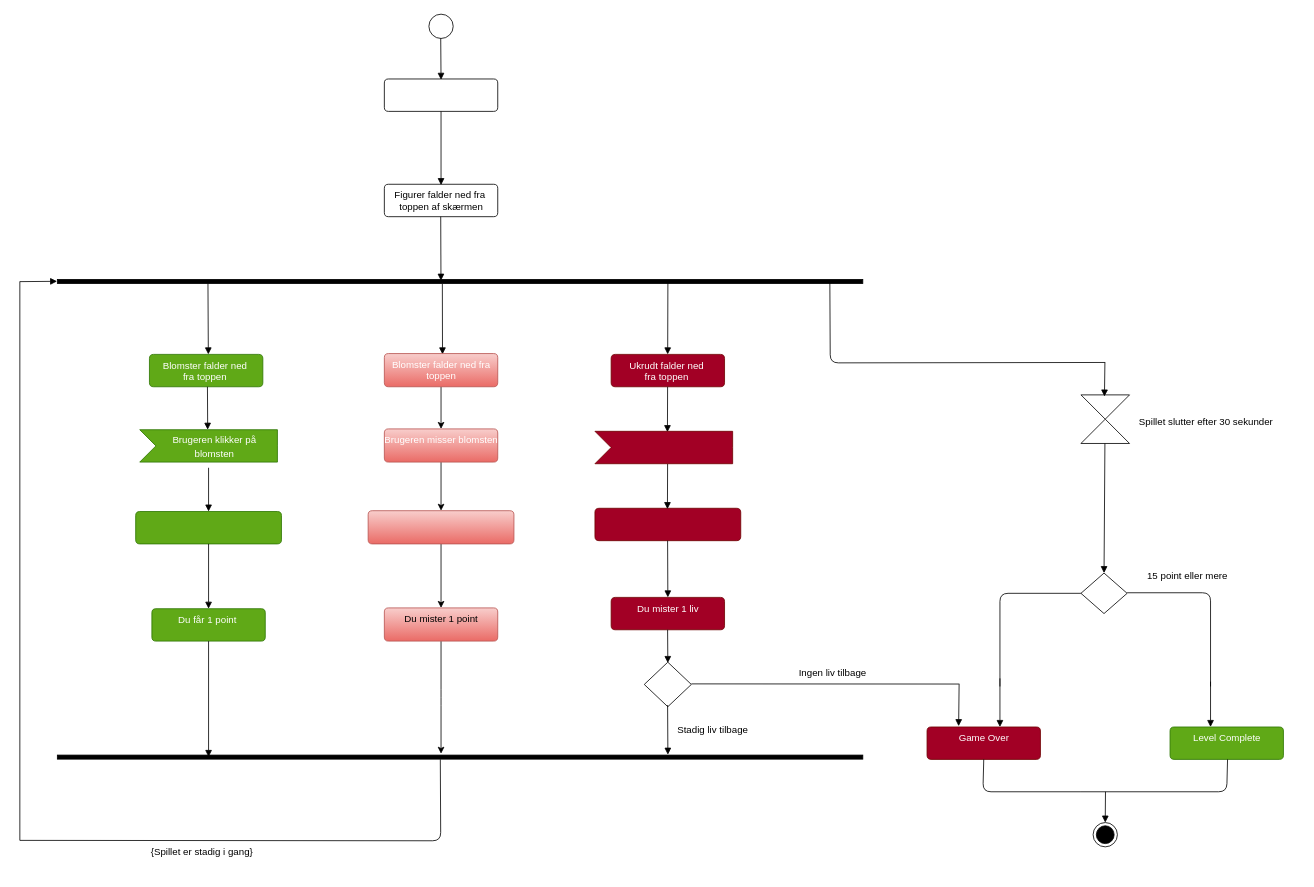
Image size: 1314x887. Some labels were removed from this diagram. The shapes that lost their labels are listed below. From the top down, each one's centre as x and y in pixels, then its label:
point (441, 94): Baggrundsmusik starter
point (663, 447): Brugeren klikker på ukrudten
point (208, 527): Blomsten fader ud Man hører en 'puf' lyd
point (440, 527): Blomsten falder hele vejen ned til bunden. Man hører en trist tone
point (667, 524): Ukrudten forsivnder som en røgsky. Man hører en 'oh no' lyd
